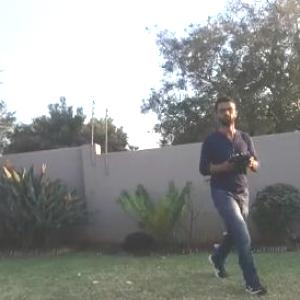follow: (196, 90, 281, 298)
